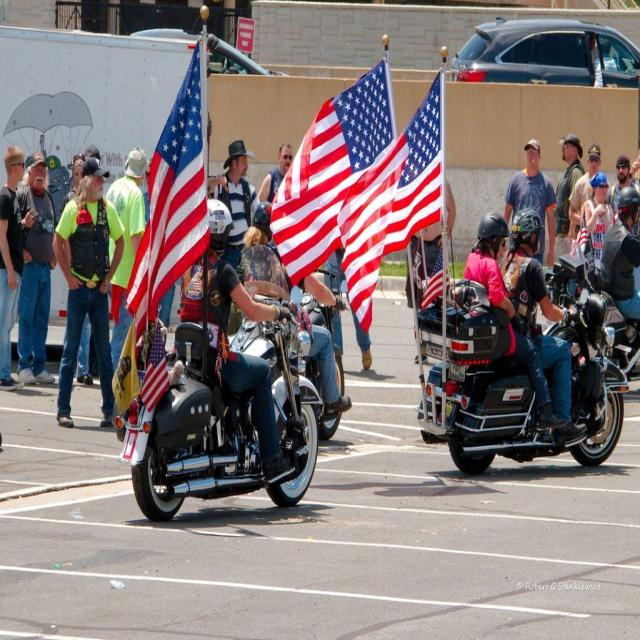car: (447, 19, 636, 80)
